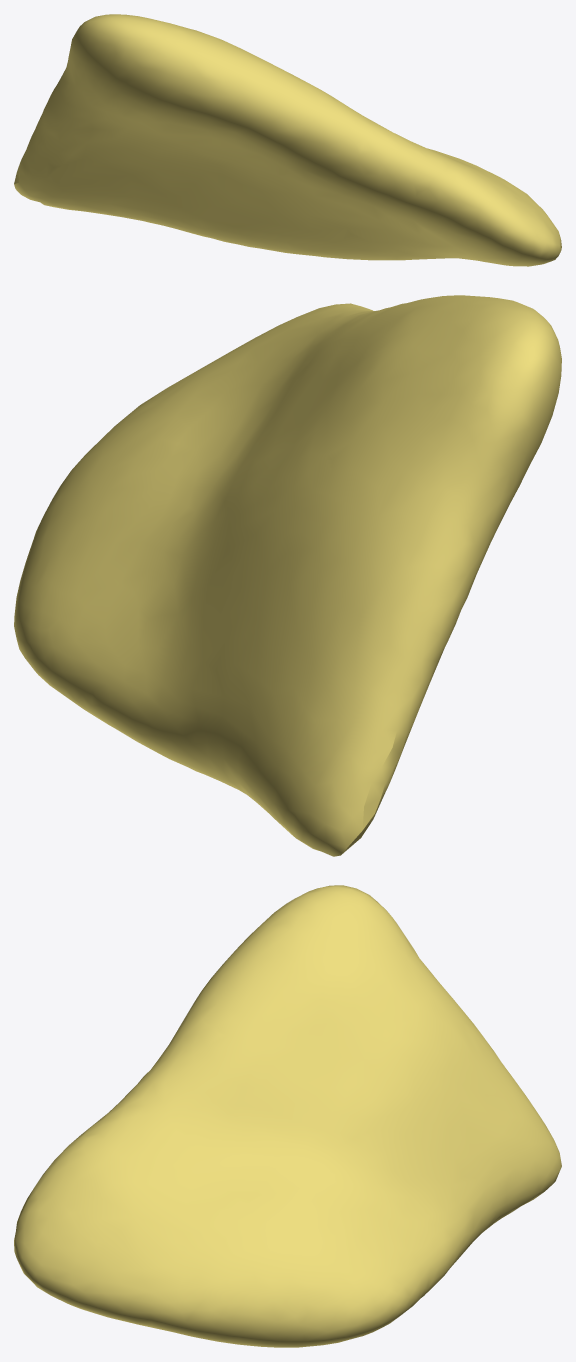
The model's file is wing-of-central-lobule-l.glb.
The picture shows the model from 3 angles, top to bottom: view 1: azimuth 30°, elevation 25°; view 2: azimuth 150°, elevation 25°; view 3: azimuth 270°, elevation 25°; orthographic projection. The views are drawn at different scales.
Parts seen in each view (by area): view 1: Wing of central lobule.l; view 2: Wing of central lobule.l; view 3: Wing of central lobule.l.
Boxes of the visible parts, x1,y1,x2,y2 form: Wing of central lobule.l: [14, 14, 561, 266]; Wing of central lobule.l: [14, 295, 561, 856]; Wing of central lobule.l: [14, 885, 561, 1347].
Size of the model in its own units: 0.0173 by 0.0129 by 0.0206.
